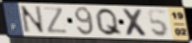5: (146, 8, 171, 39)
9: (73, 6, 95, 37)
N: (19, 5, 47, 35)
Q: (94, 7, 124, 37)
X: (120, 7, 151, 38)
Z: (42, 6, 70, 34)
